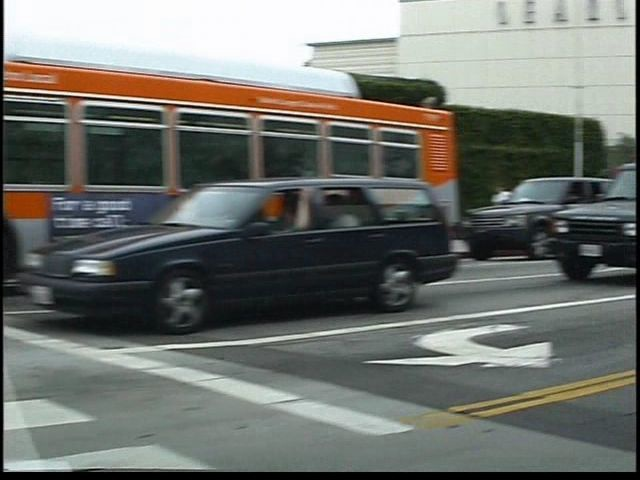person: (507, 178, 536, 243)
